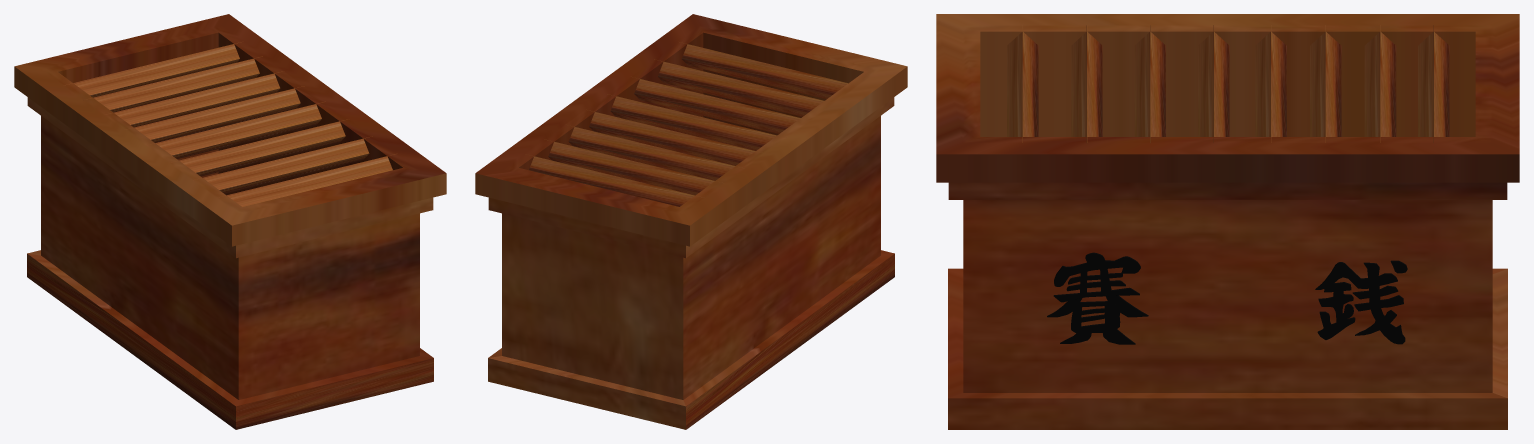
File: saisen_v0.3.gltf
The picture shows the model from 3 angles, left to right: view 1: azimuth 30°, elevation 25°; view 2: azimuth 150°, elevation 25°; view 3: azimuth 270°, elevation 25°; orthographic projection. The views are drawn at different scales.
Visible parts, largest first — view 1: Cube; view 2: Cube; view 3: Cube, Plane.
Part boxes in pixels (<box>): Cube: <box>14,14,446,429</box>; Cube: <box>475,14,907,429</box>; Cube: <box>936,14,1519,429</box>; Plane: <box>1047,252,1407,344</box>.
Size of the model in its own units: 2.38 by 2.22 by 4.18.
Materials: 2 (1 with a texture image).
